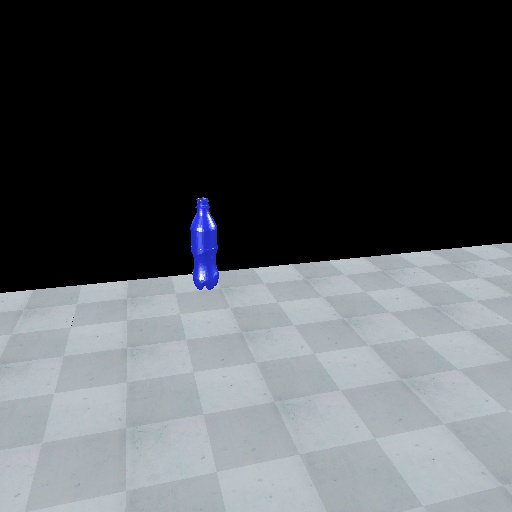bottle: (188, 194, 221, 291)
